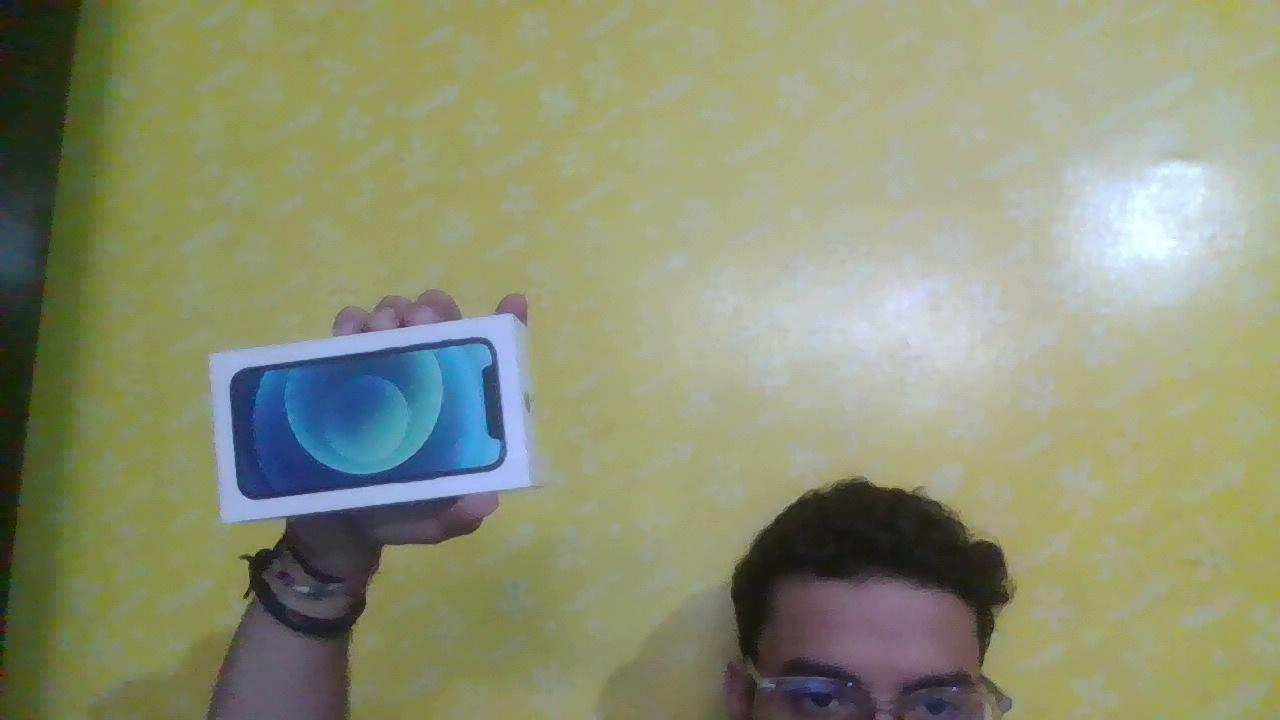Phone: (178, 296, 546, 535)
